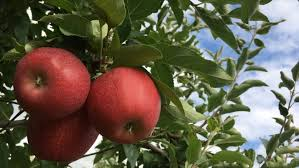apple: (88, 68, 165, 146), (17, 50, 94, 117), (25, 111, 94, 168)
